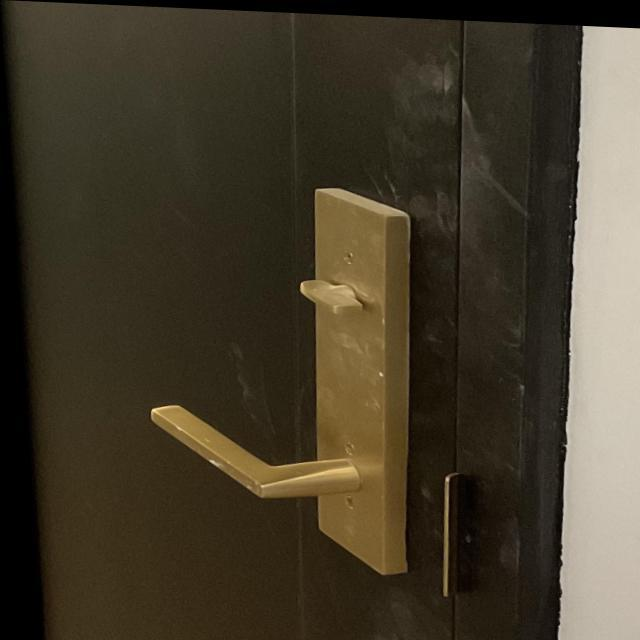door_handle: (124, 385, 396, 517)
